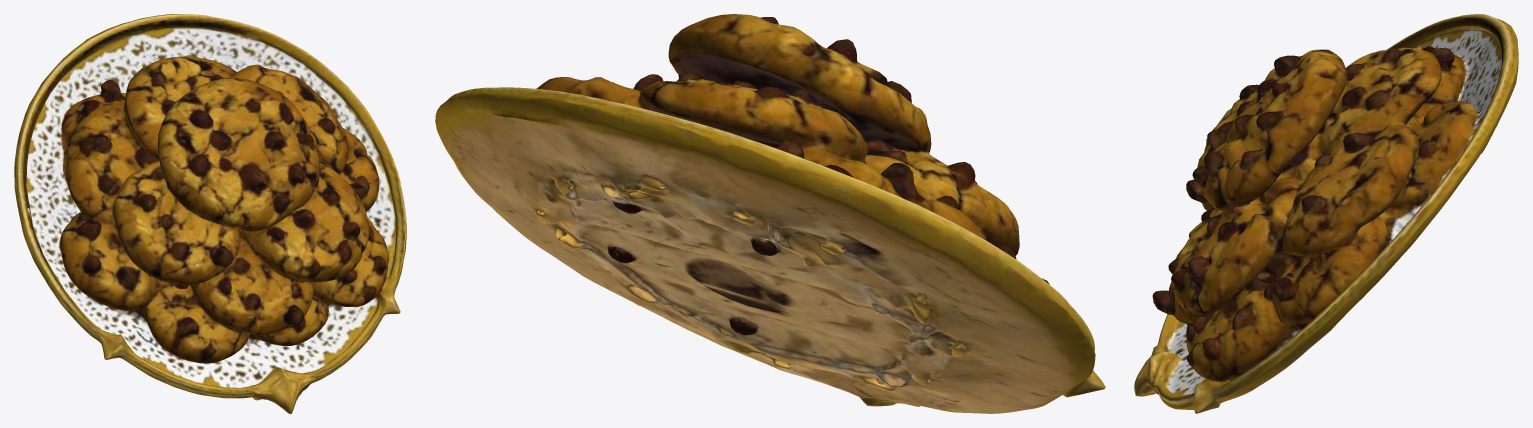
Rendered from agatha_cookies.glb.
The picture shows the model from 3 angles, left to right: view 1: azimuth 30°, elevation 25°; view 2: azimuth 150°, elevation 25°; view 3: azimuth 270°, elevation 25°; orthographic projection. The views are drawn at different scales.
Size of the model in its own units: 0.9006 by 0.6706 by 0.6711.
Materials: 1 (1 with a texture image).
